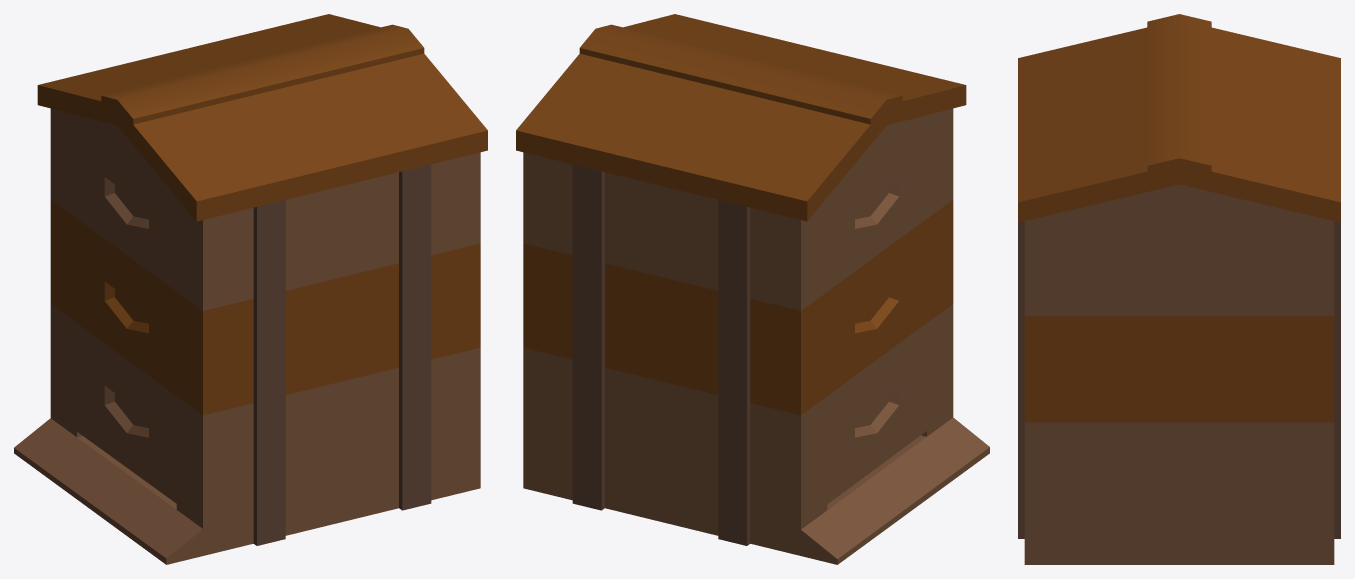
Rendered from LargeWoodenBeeBox.fbx.
The picture shows the model from 3 angles, left to right: view 1: azimuth 30°, elevation 25°; view 2: azimuth 150°, elevation 25°; view 3: azimuth 270°, elevation 25°; orthographic projection.
Parts seen in each view (by area): view 1: BeeBox_Body03, BeeBox_Lid, BeeBox_Body02, BeeBox_Body01, SideSupport02, SideSupport04; view 2: BeeBox_Body03, BeeBox_Lid, BeeBox_Body02, BeeBox_Body01, SideSupport01, SideSupport03; view 3: BeeBox_Lid, BeeBox_Body03, BeeBox_Body01, BeeBox_Body02, SideSupport01, SideSupport02.
Boxes of the visible parts, x1,y1,x2,y2 form: BeeBox_Body03: (14, 304, 480, 564); BeeBox_Lid: (37, 14, 487, 221); BeeBox_Body02: (50, 200, 480, 415); BeeBox_Body01: (50, 108, 480, 310); SideSupport02: (399, 164, 431, 510); SideSupport04: (253, 200, 285, 545); BeeBox_Body03: (523, 304, 989, 564); BeeBox_Lid: (516, 14, 966, 221); BeeBox_Body02: (523, 200, 953, 415); BeeBox_Body01: (523, 108, 953, 310); SideSupport01: (572, 164, 604, 510); SideSupport03: (718, 200, 750, 545); BeeBox_Lid: (1018, 14, 1340, 222); BeeBox_Body03: (1024, 422, 1334, 564); BeeBox_Body01: (1024, 184, 1334, 316); BeeBox_Body02: (1024, 316, 1334, 422); SideSupport01: (1334, 221, 1340, 538); SideSupport02: (1018, 221, 1024, 538).
Size of the model in its own units: 166 by 201 by 144.
